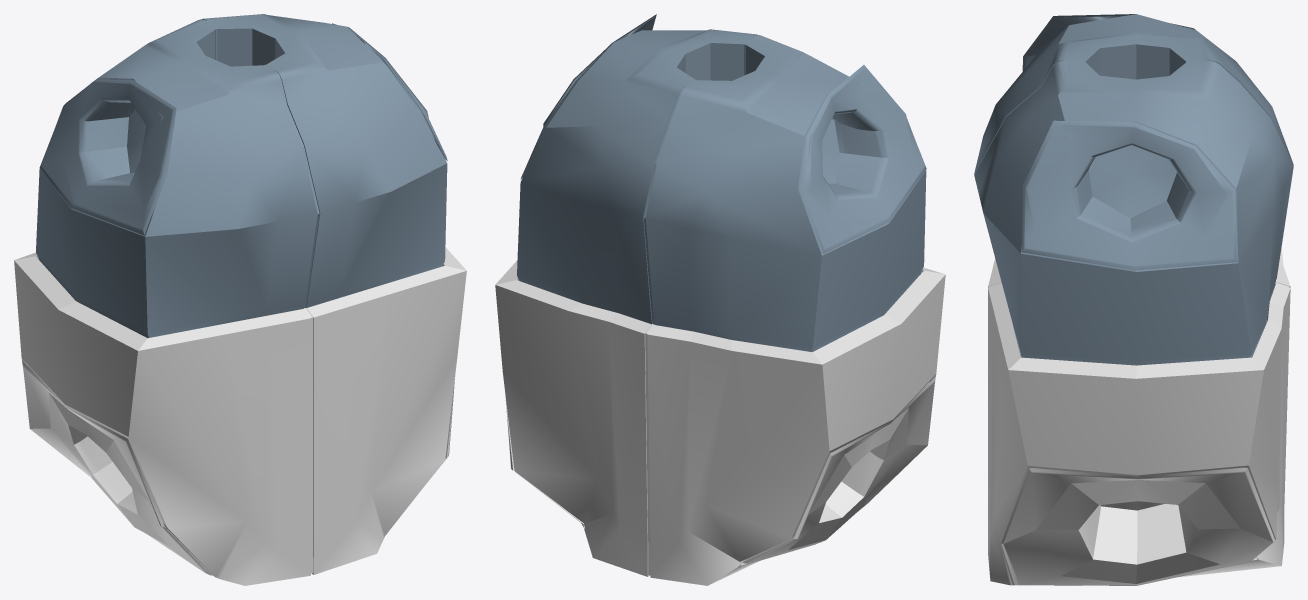
File: Baby_torso_A.fbx
The picture shows the model from 3 angles, left to right: view 1: azimuth 30°, elevation 25°; view 2: azimuth 150°, elevation 25°; view 3: azimuth 270°, elevation 25°; orthographic projection. The views are drawn at different scales.
Visible parts, largest first — view 1: polySurface4; view 2: polySurface4; view 3: polySurface4.
Part boxes in pixels (<box>): polySurface4: <box>14,14,466,585</box>; polySurface4: <box>495,14,945,585</box>; polySurface4: <box>974,14,1293,585</box>.
Size of the model in its own units: 3.35 by 4.19 by 2.47.
